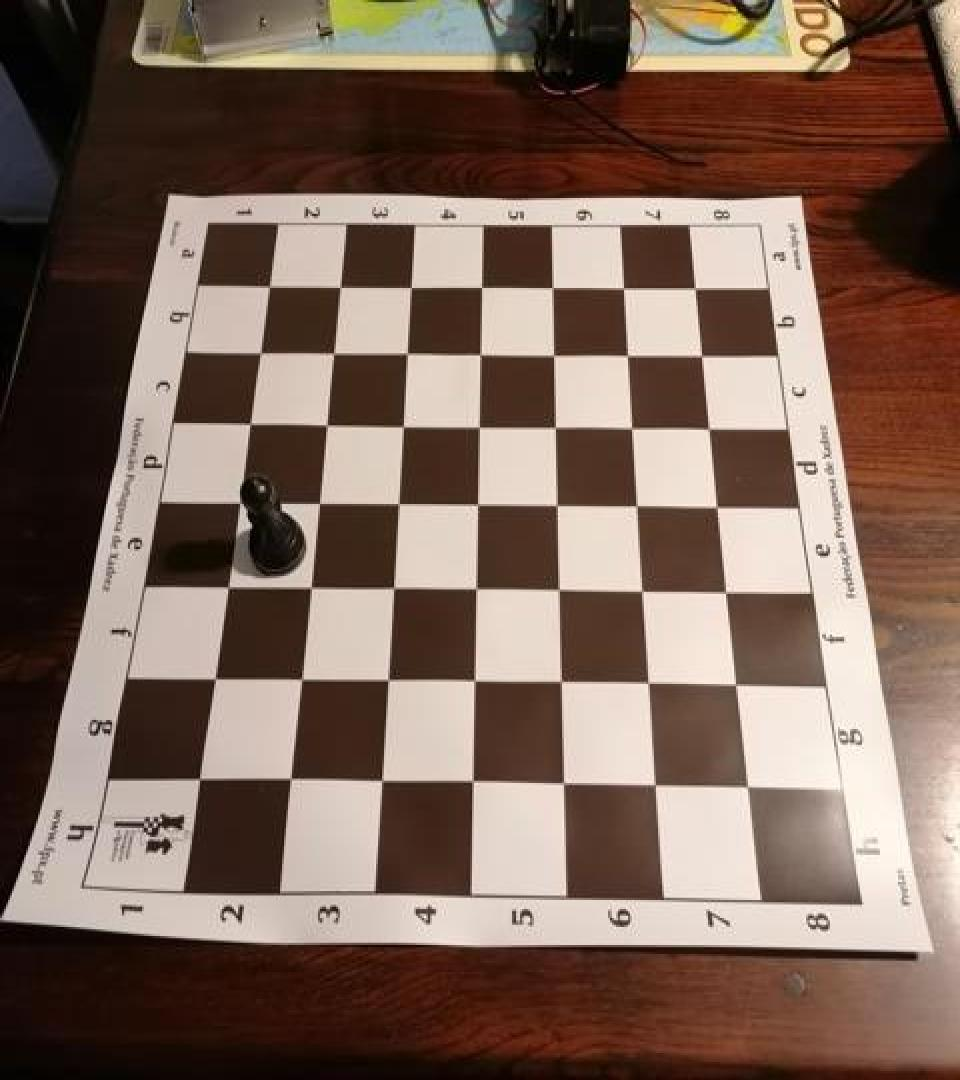xcorner: (630, 572, 662, 609), (546, 571, 578, 608), (371, 661, 403, 698), (643, 769, 675, 806), (272, 761, 304, 798), (684, 270, 716, 306), (612, 269, 644, 305), (540, 268, 572, 304), (397, 266, 429, 302), (325, 266, 357, 302), (254, 264, 286, 300), (691, 336, 723, 372), (616, 335, 648, 371), (541, 334, 573, 370), (467, 334, 499, 370), (392, 333, 424, 369), (318, 332, 350, 368), (244, 331, 276, 367), (698, 410, 730, 446), (620, 408, 652, 444), (542, 407, 574, 443), (465, 406, 497, 442), (388, 405, 420, 441), (310, 404, 342, 440), (233, 403, 265, 439), (706, 488, 738, 524), (625, 487, 657, 523), (544, 486, 576, 522), (463, 484, 495, 520), (382, 482, 414, 518), (302, 482, 334, 518), (222, 480, 254, 516), (715, 574, 747, 610), (461, 569, 493, 605), (377, 568, 409, 604), (293, 567, 325, 603), (209, 565, 241, 601), (725, 668, 757, 704), (636, 666, 668, 702), (547, 665, 579, 701), (459, 662, 491, 698), (283, 659, 315, 695), (195, 658, 227, 694), (736, 772, 768, 808), (549, 767, 581, 803), (457, 765, 489, 801), (364, 764, 396, 800), (180, 760, 212, 796), (468, 267, 500, 302)
